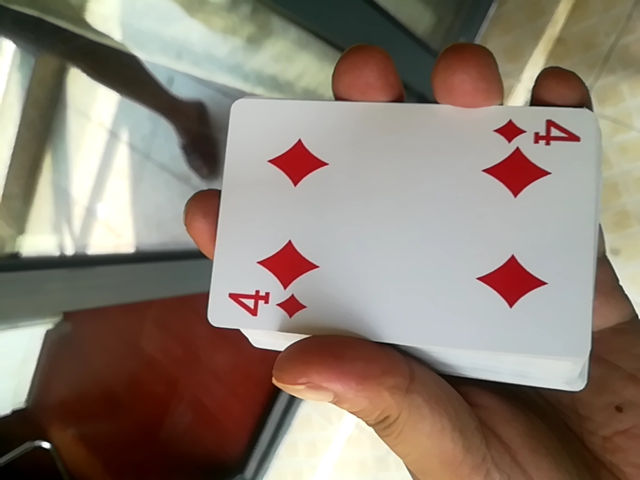fk 4: (184, 92, 614, 365)
